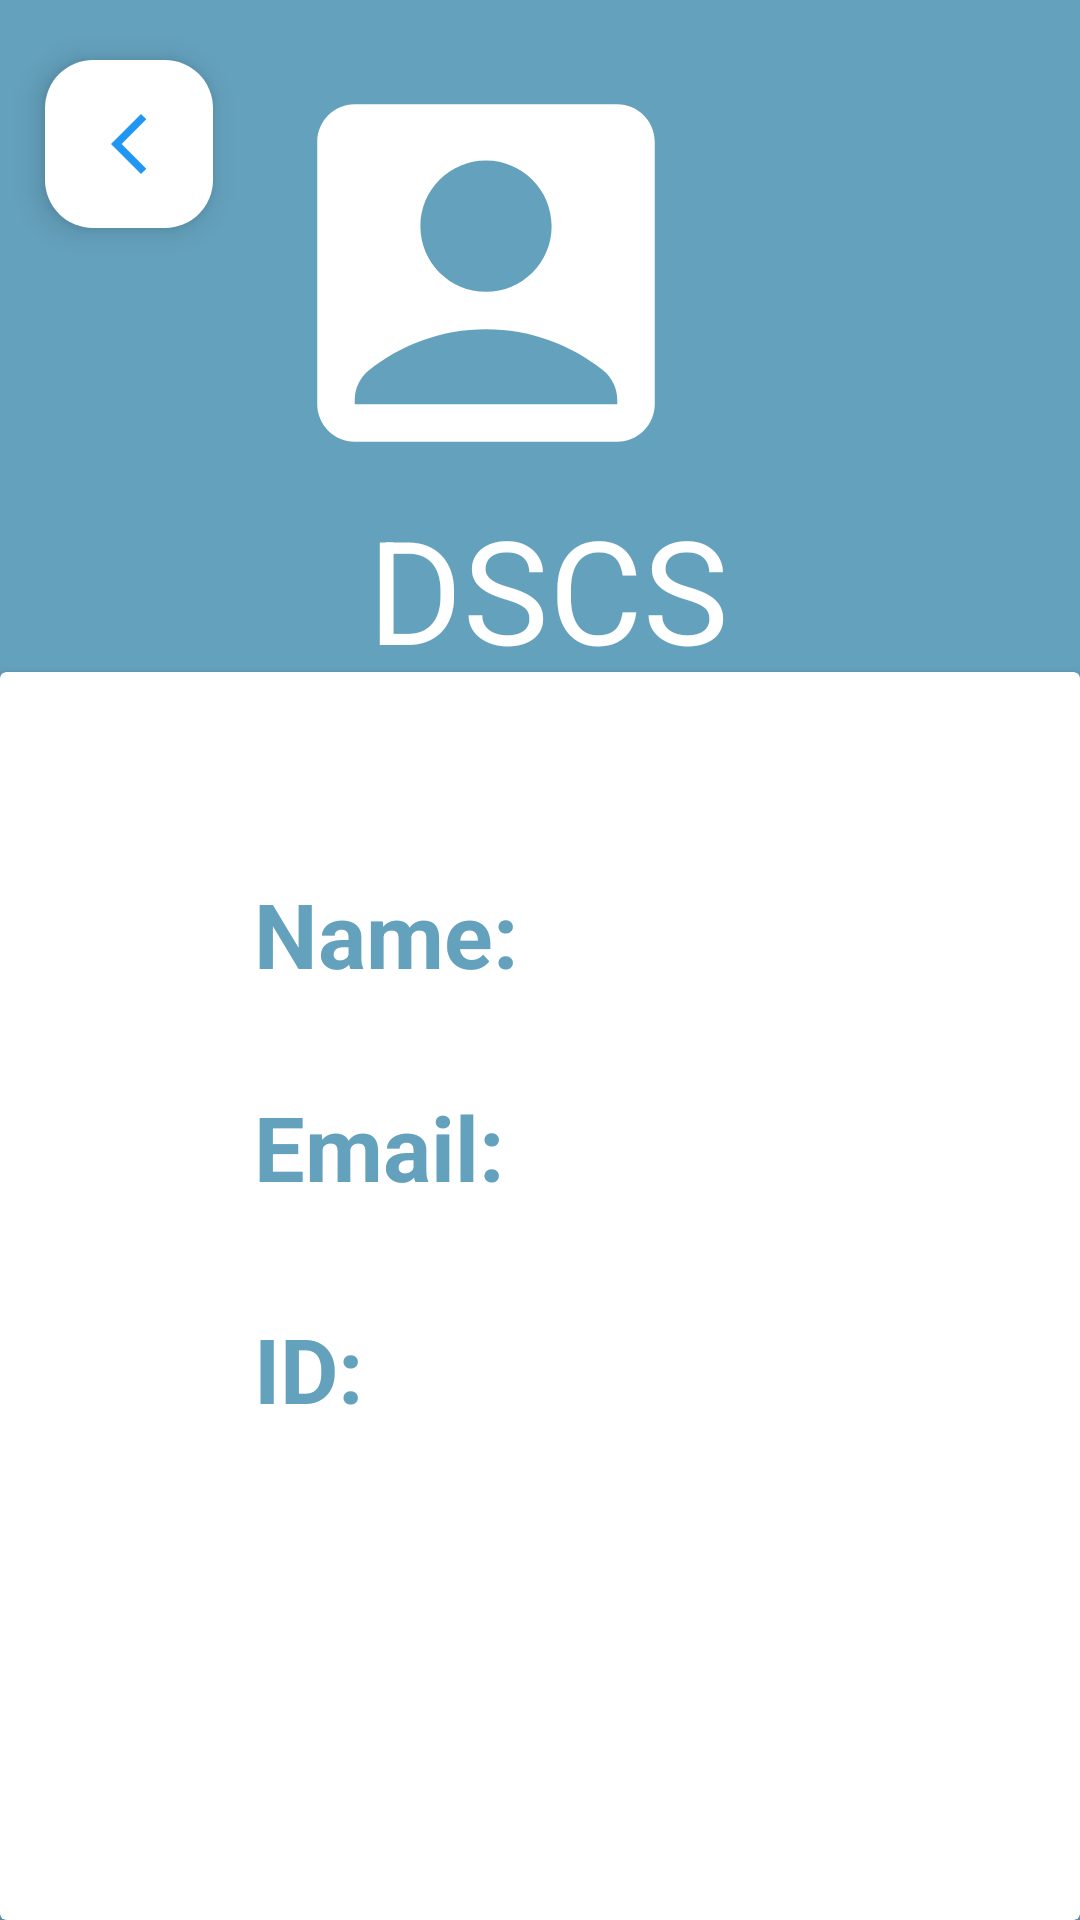

Locate icon controls on the screen. Image size 1080w x 1920h, boxes as [x1,y1,x2,y2].
arrow back: [45,60,213,228]
